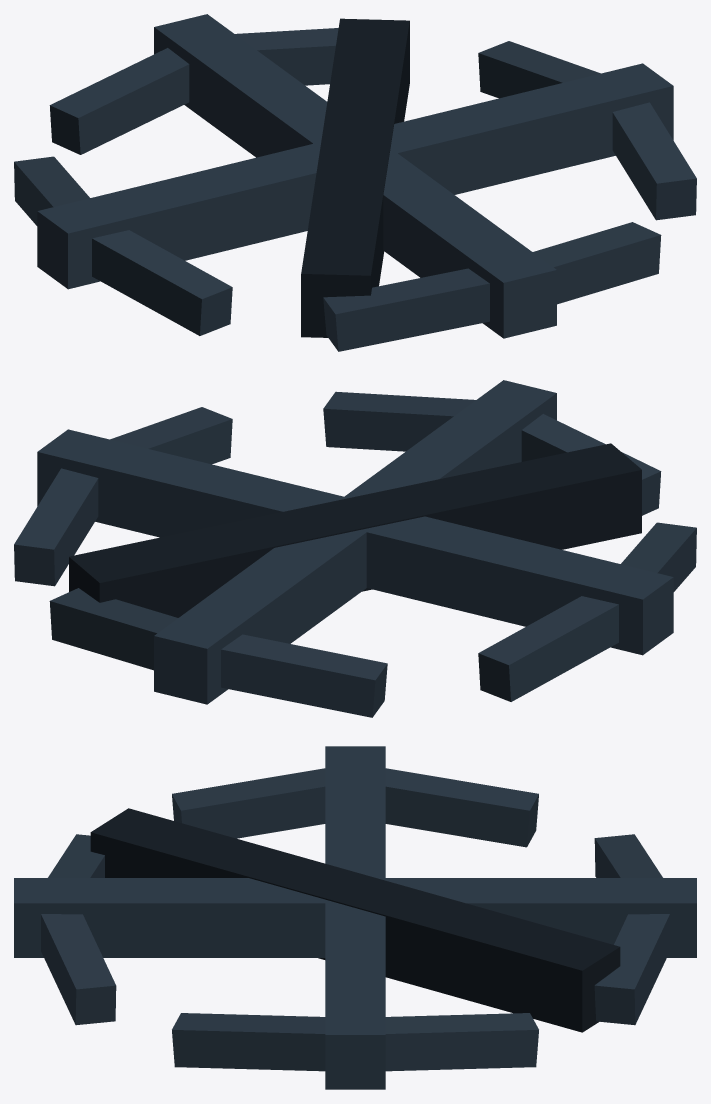
File: CMU3DHiveXenoHiveWeedsCore.glb
The picture shows the model from 3 angles, top to bottom: view 1: azimuth 30°, elevation 25°; view 2: azimuth 150°, elevation 25°; view 3: azimuth 270°, elevation 25°; orthographic projection. The views are drawn at different scales.
Visible parts, largest first — view 1: tile-joining root (×4), branching ground filament (×8), central ground rhizome; view 2: tile-joining root (×4), branching ground filament (×8), central ground rhizome; view 3: tile-joining root (×4), branching ground filament (×8), central ground rhizome.
Boxes of the visible parts, x1=… form: tile-joining root (×4): x1=37, y1=14, x2=673, y2=338; branching ground filament (×8): x1=14, y1=28, x2=696, y2=351; central ground rhizome: x1=301, y1=18, x2=409, y2=337; tile-joining root (×4): x1=37, y1=380, x2=673, y2=704; branching ground filament (×8): x1=14, y1=391, x2=696, y2=717; central ground rhizome: x1=69, y1=443, x2=641, y2=617; tile-joining root (×4): x1=14, y1=746, x2=696, y2=1089; branching ground filament (×8): x1=41, y1=768, x2=669, y2=1071; central ground rhizome: x1=90, y1=808, x2=620, y2=1032.
Bounding box in the file's own units: 0.5 × 0.05 × 0.5.
